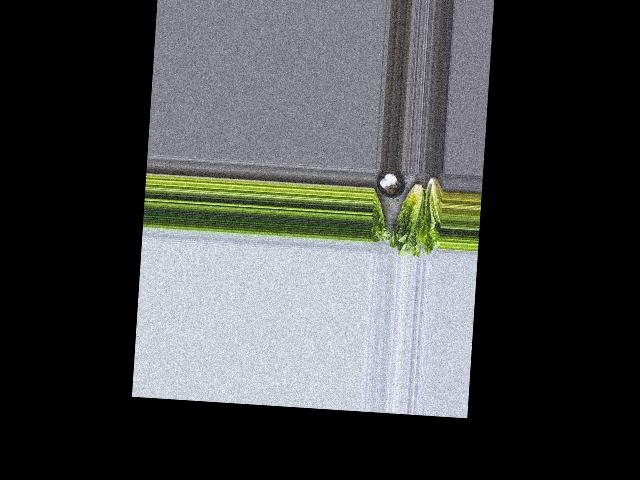lettuce: (419, 172, 443, 249)
